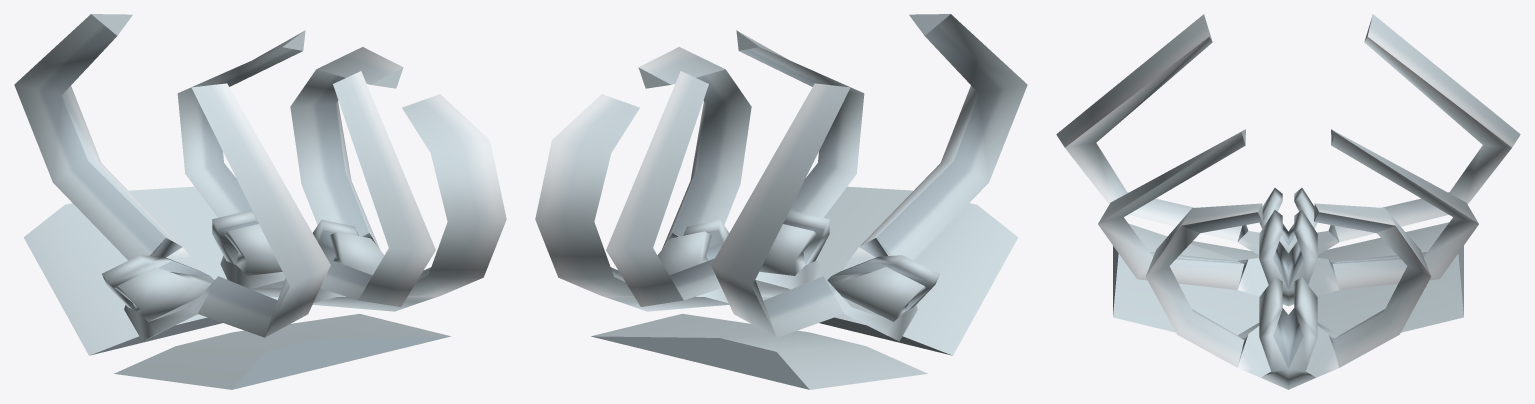
The model's file is Bone_6_color_1.FBX.
3 renders of one model, left to right at view 1: azimuth 30°, elevation 25°; view 2: azimuth 150°, elevation 25°; view 3: azimuth 270°, elevation 25°, orthographic. The views are drawn at different scales.
Visible parts, largest first — view 1: Bone; view 2: Bone; view 3: Bone.
Boxes of the visible parts, x1=… form: Bone: x1=14, y1=14, x2=506, y2=389; Bone: x1=535, y1=14, x2=1027, y2=389; Bone: x1=1056, y1=14, x2=1520, y2=389.
Bounding box in the file's own units: 0.7104 × 0.6741 × 1.04.
